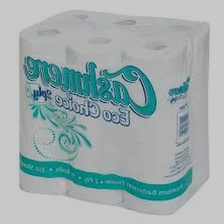tissue: (11, 4, 216, 220)
